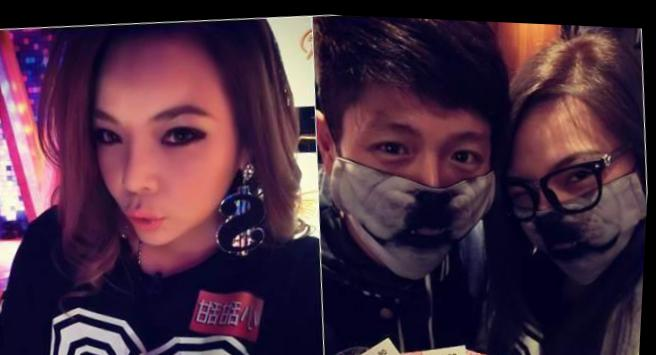NONE: (86, 88, 246, 247)
OK: (503, 131, 651, 290)
WRONG: (326, 89, 511, 273)
